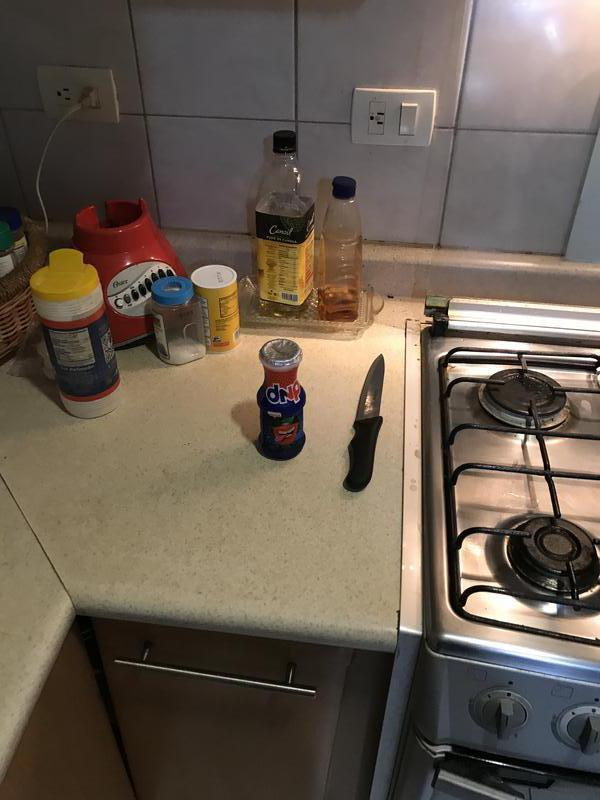danup: (256, 339, 307, 462)
